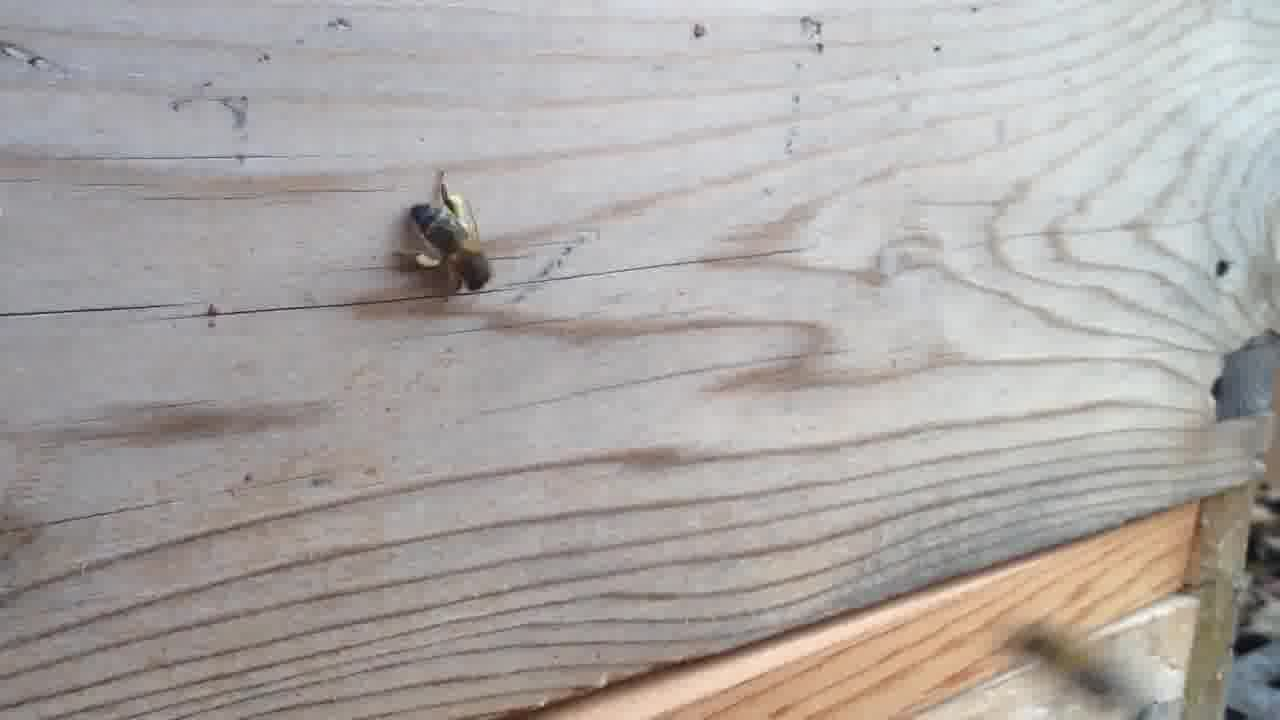pollen: (396, 180, 501, 293)
